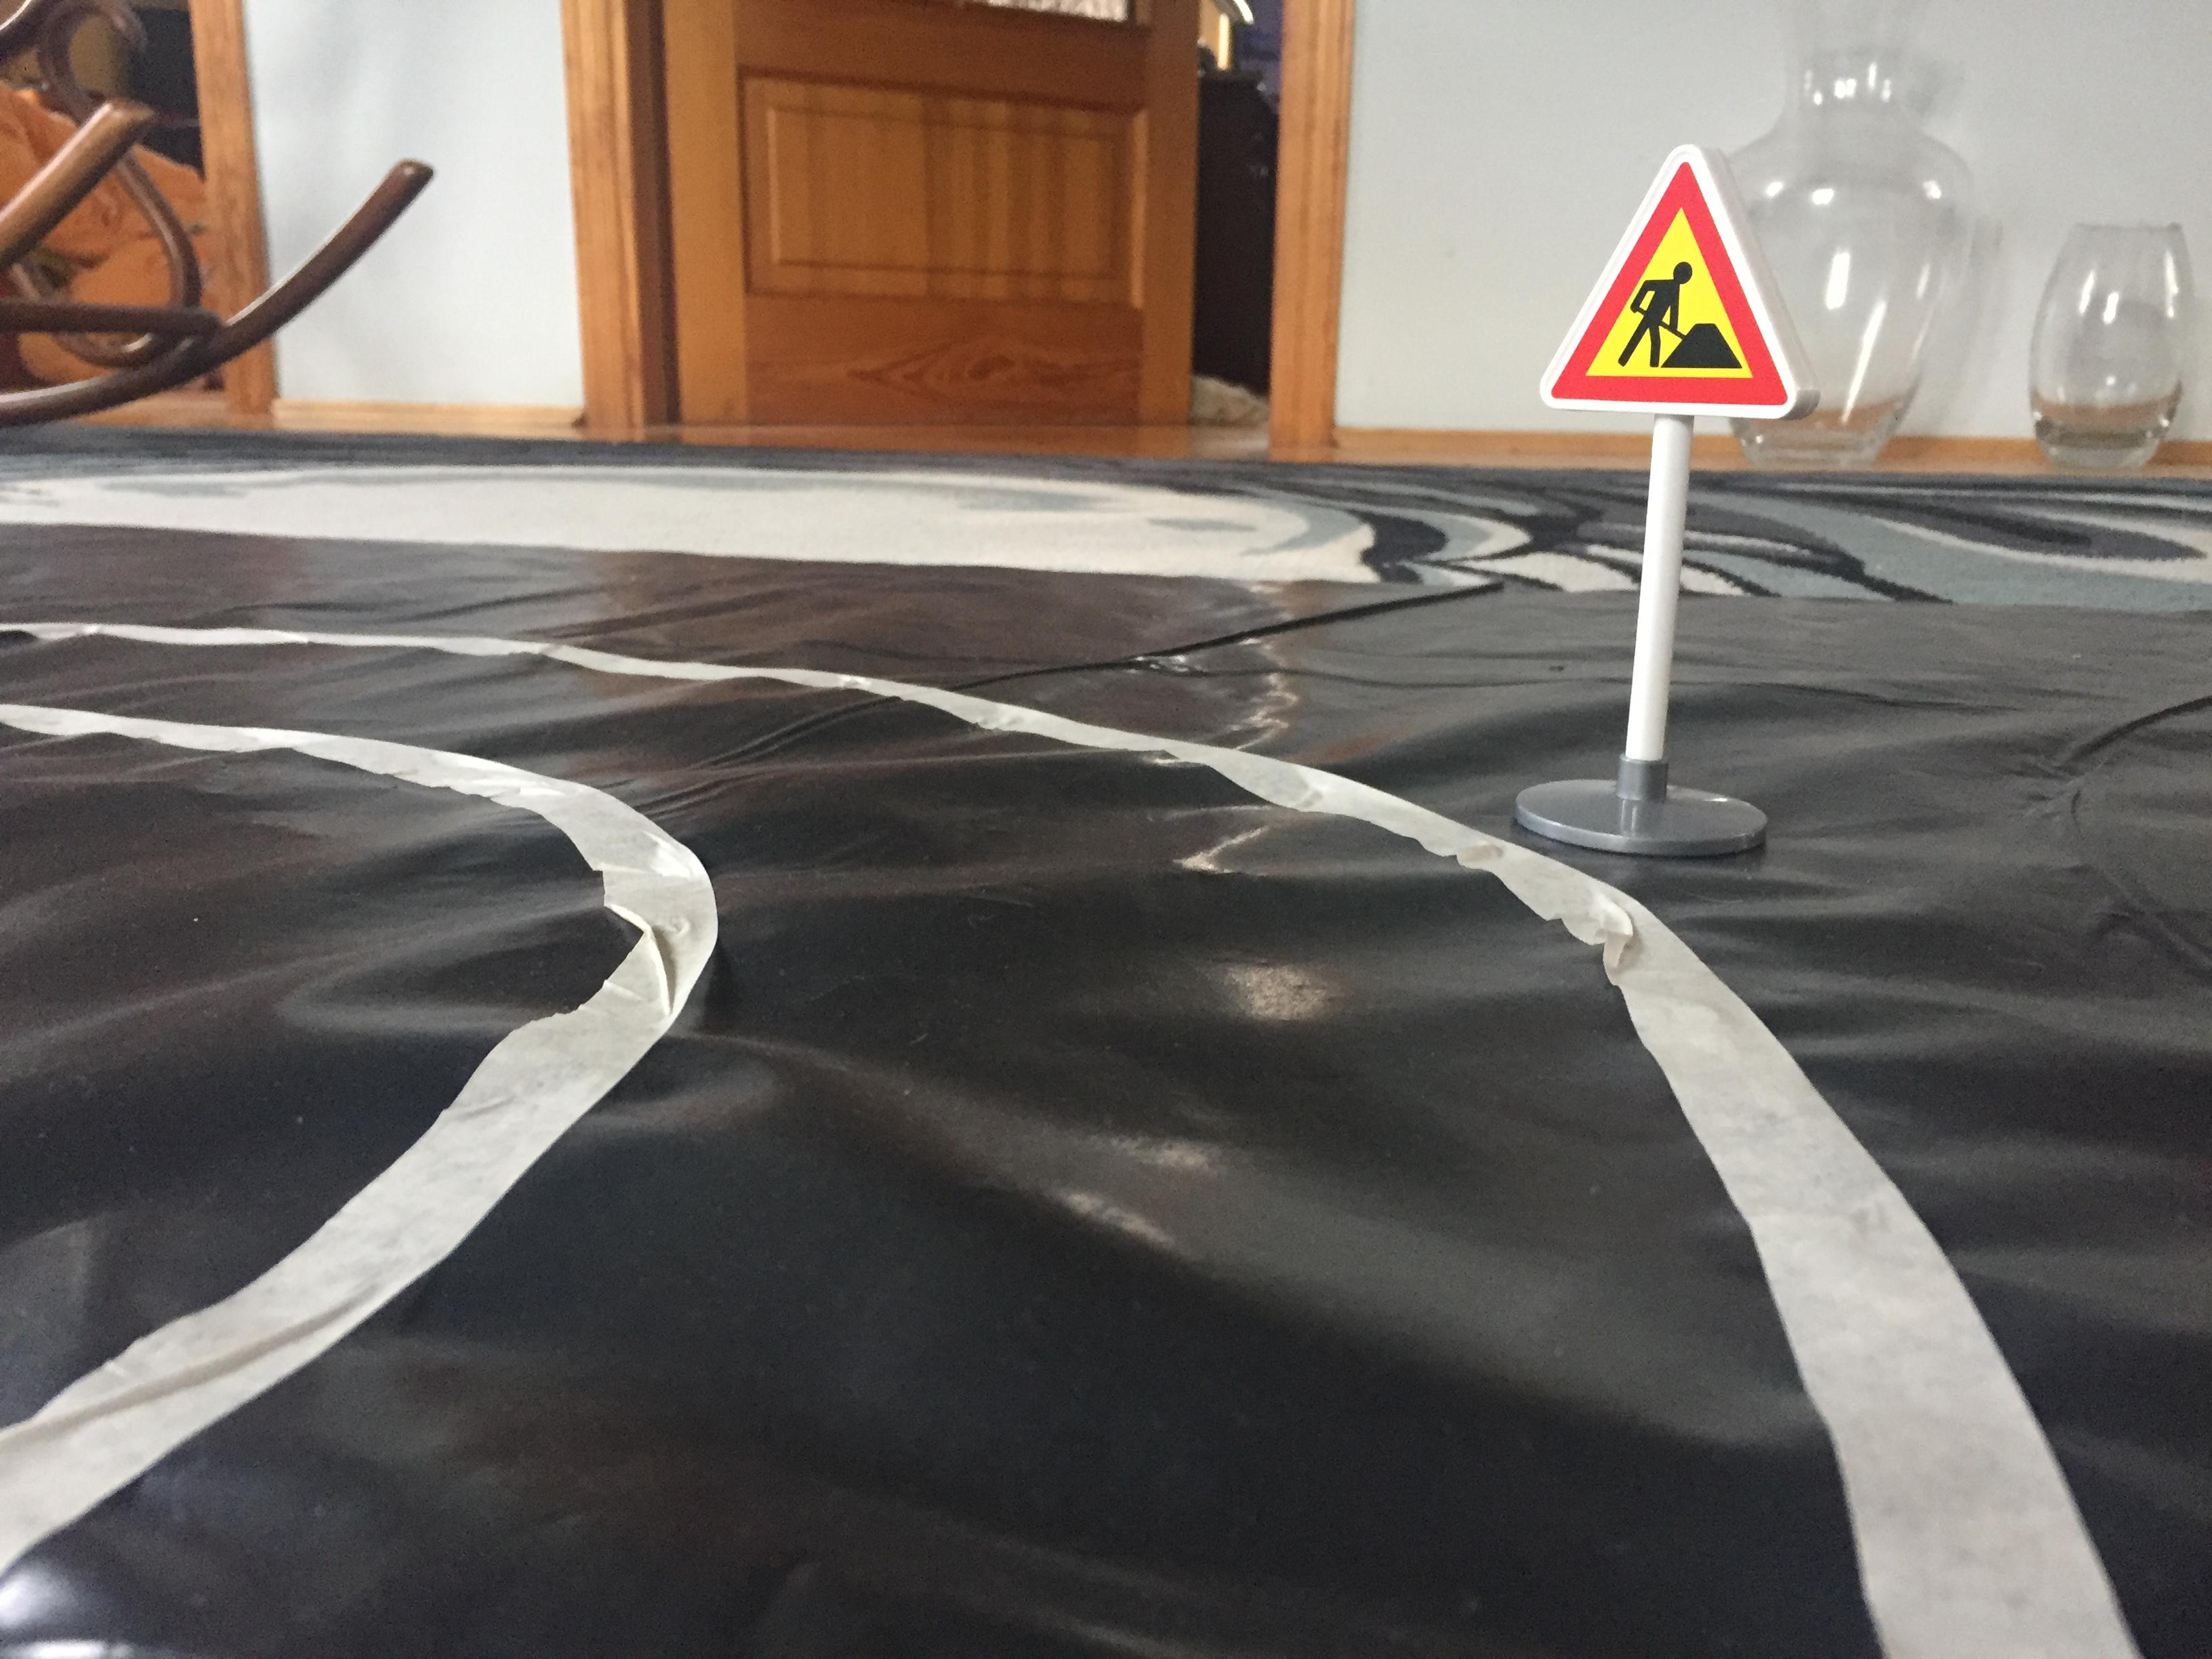work: (1527, 134, 1834, 432)
